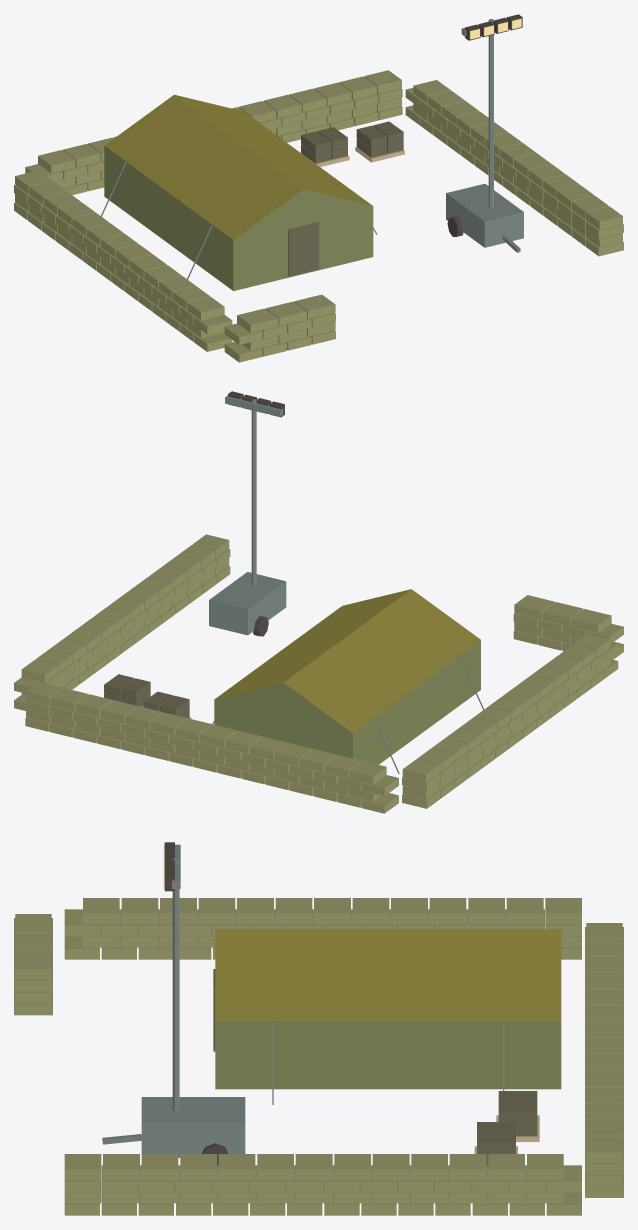
File: SM_PuestoFrente_v1_LOD0.fbx
3 views of the same model, one above another, from view 1: azimuth 30°, elevation 25°; view 2: azimuth 150°, elevation 25°; view 3: azimuth 270°, elevation 25° (orthographic). The views are drawn at different scales.
Visible parts, largest first — view 1: SM_bloques.puesto_frente_v1_LOD0; view 2: SM_bloques.puesto_frente_v1_LOD0; view 3: SM_bloques.puesto_frente_v1_LOD0.
Part boxes in pixels (x1,y1,x2,y2): SM_bloques.puesto_frente_v1_LOD0: (14,14,623,362); SM_bloques.puesto_frente_v1_LOD0: (14,391,623,813); SM_bloques.puesto_frente_v1_LOD0: (14,842,623,1215).
Bounding box in the file's own units: 14.9 × 7.6 × 14.1.
